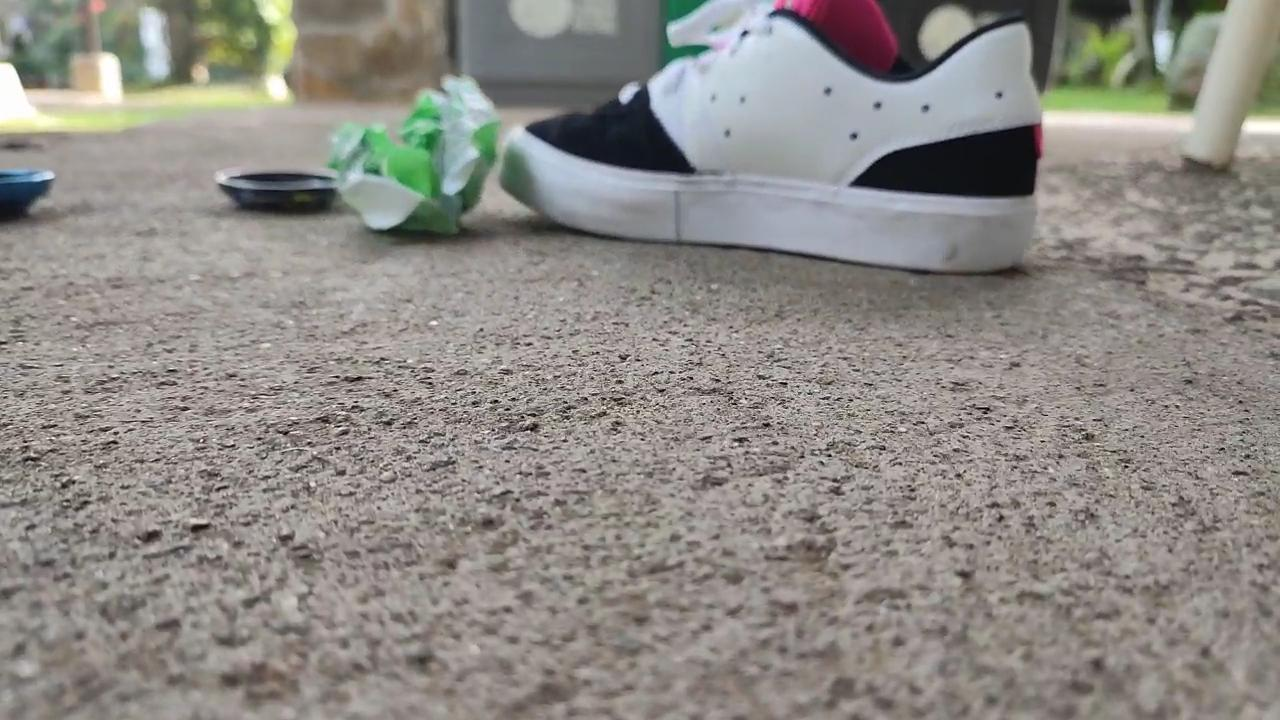Paper: (322, 45, 517, 256)
